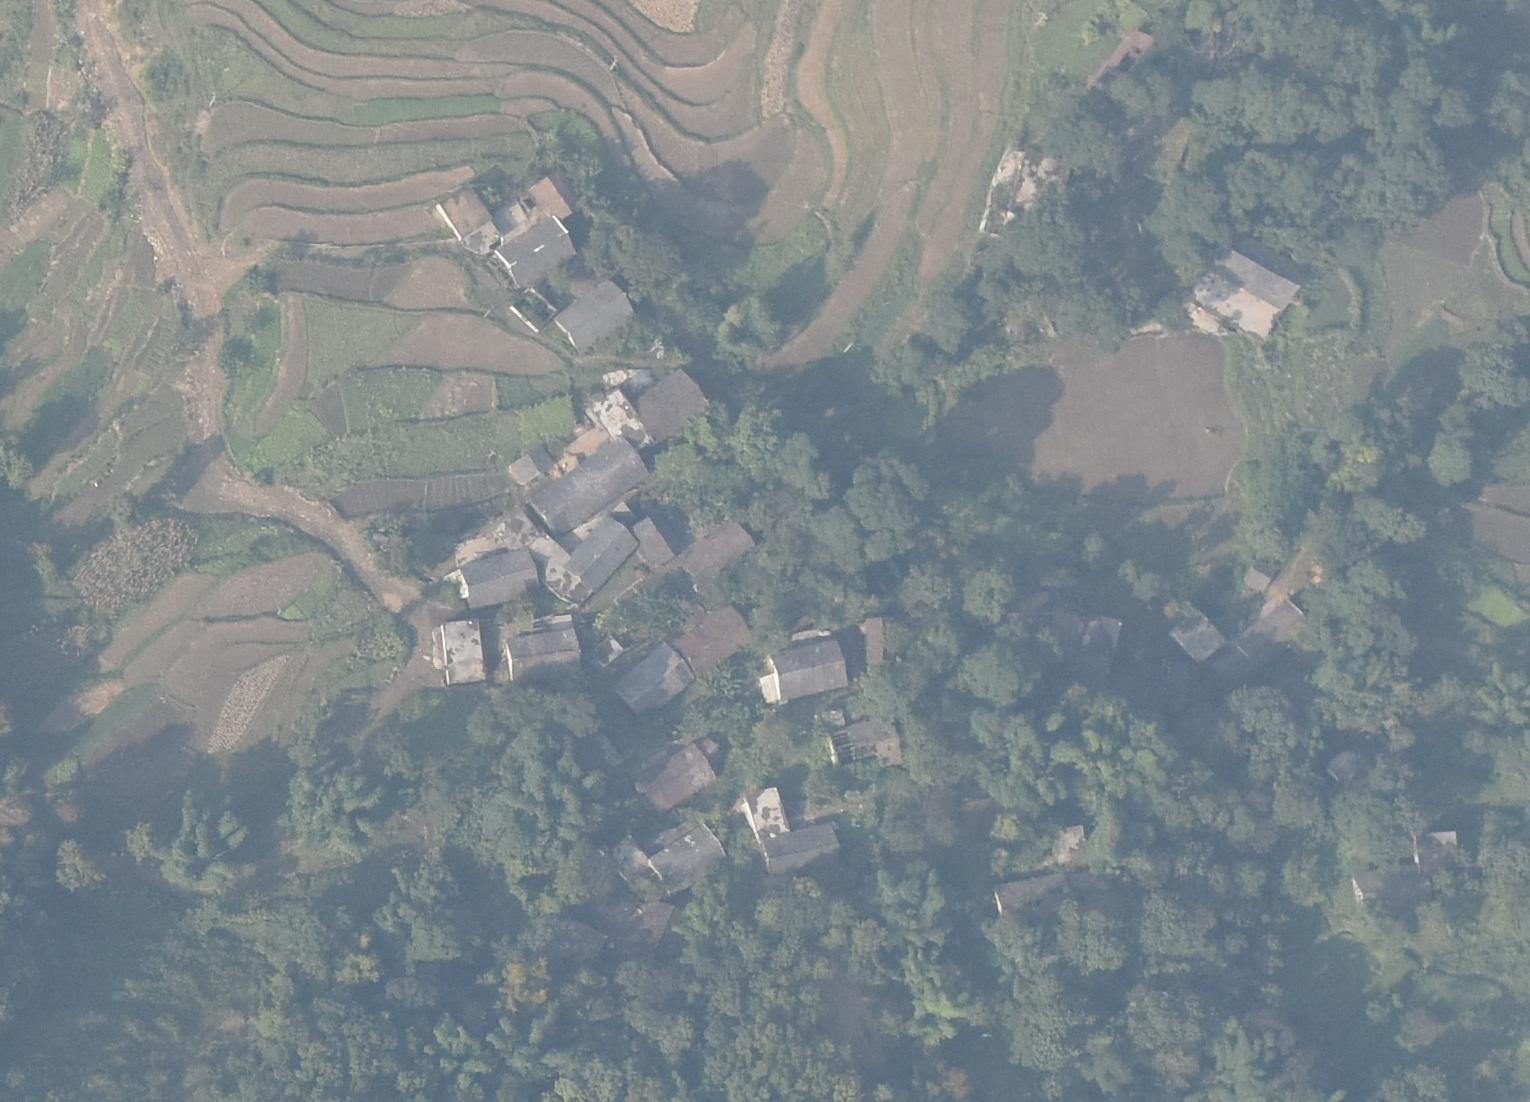building: (1187, 243, 1305, 341), (529, 436, 651, 528), (736, 783, 849, 878), (640, 818, 732, 911), (1218, 595, 1307, 680), (561, 513, 641, 598), (609, 642, 698, 718), (760, 636, 853, 705), (448, 540, 549, 603), (493, 218, 587, 286), (636, 361, 706, 443), (504, 622, 583, 693), (552, 280, 636, 346), (634, 745, 719, 809), (674, 607, 755, 672), (678, 519, 755, 583), (993, 874, 1085, 926), (430, 617, 493, 692), (1349, 862, 1431, 918), (434, 184, 507, 241), (1167, 604, 1229, 661), (525, 175, 594, 224), (1409, 825, 1463, 881), (864, 612, 906, 673), (505, 444, 552, 483), (1244, 560, 1275, 597)
